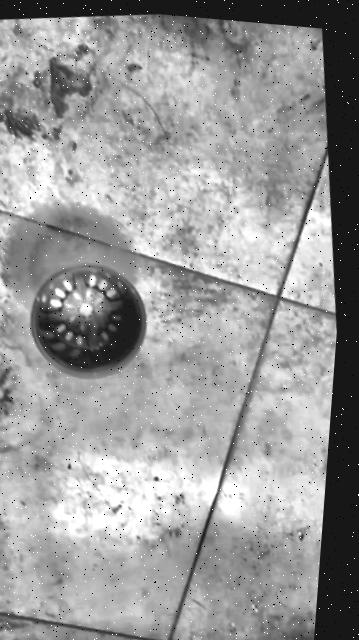pot: (18, 254, 155, 388)
